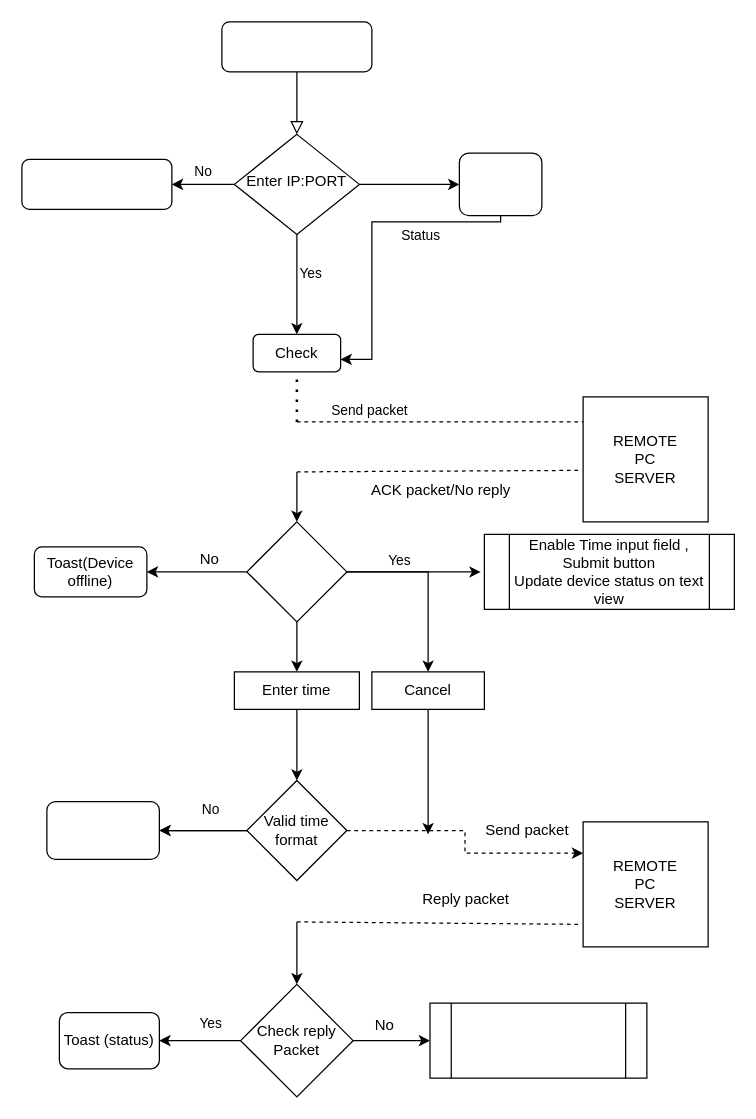
This 756x1119 diagram has some shape labels left out. Each missing label, with the centre of its shape:
"Check Packet" goes at (296,571).
"Demo mode (checkbox)" goes at (500,184).
"Disable Time input field, Submit button Update device status on text view" goes at (538,1040).
"Start" goes at (296,46).
"Toast(wrong input)" goes at (96,183).
"Toast(Wrong time format)" goes at (102,829).
